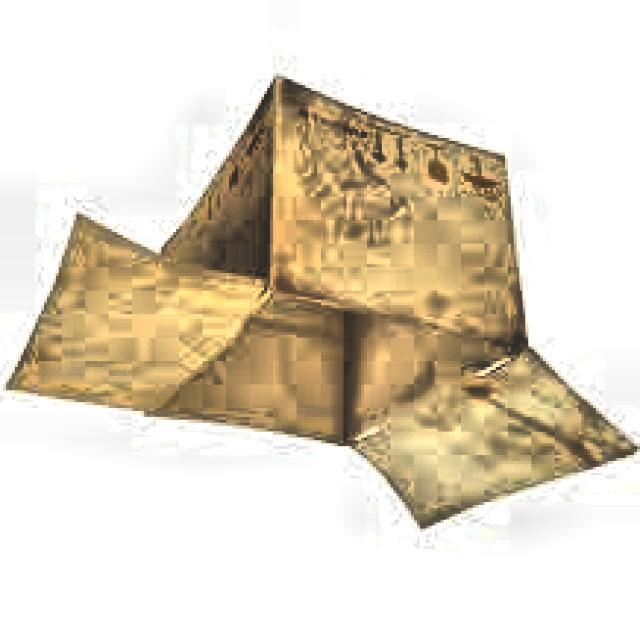cardboard: (0, 77, 640, 534)
